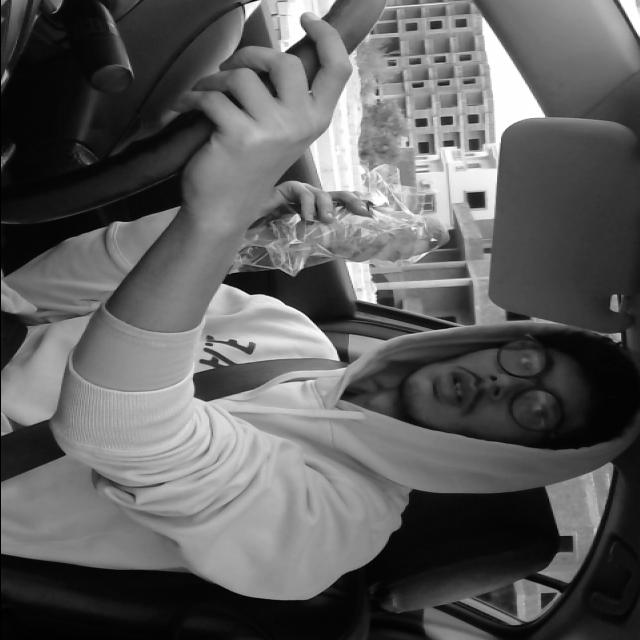eating: (272, 205, 456, 277)
